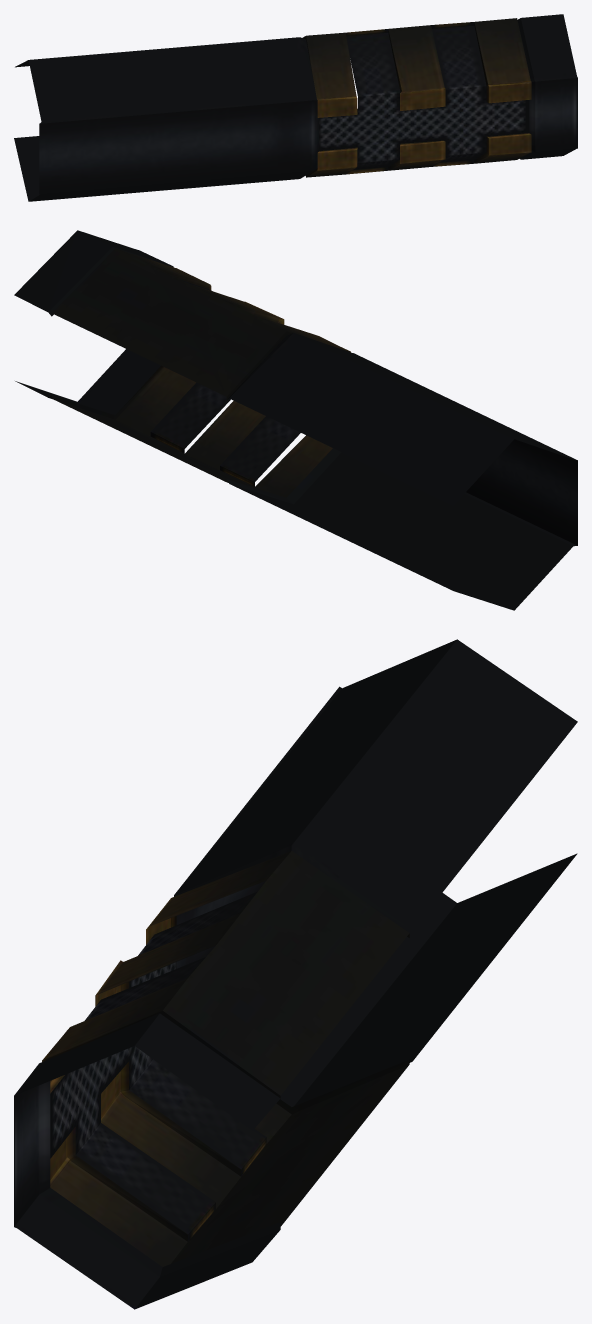
File: v_rock_5.obj
The picture shows the model from 3 angles, top to bottom: view 1: azimuth 30°, elevation 25°; view 2: azimuth 150°, elevation 25°; view 3: azimuth 270°, elevation 25°; orthographic projection. The views are drawn at different scales.
Bounding box in the file's own units: 19.08 × 5.28 × 10.23.
1 material, 1 textured.
